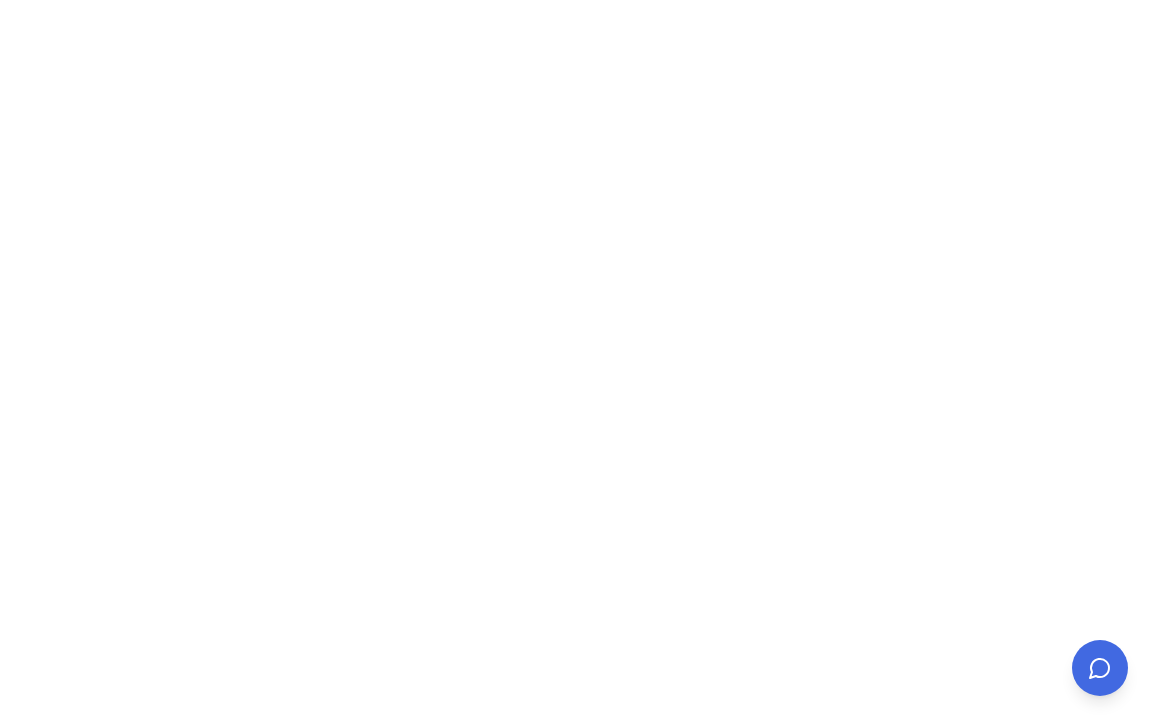
Test: E2E: Chatbot Component › closes chat window when X is clicked
Click the button named "Open chat": (1100, 668) left=1072, top=640, right=1128, bottom=696
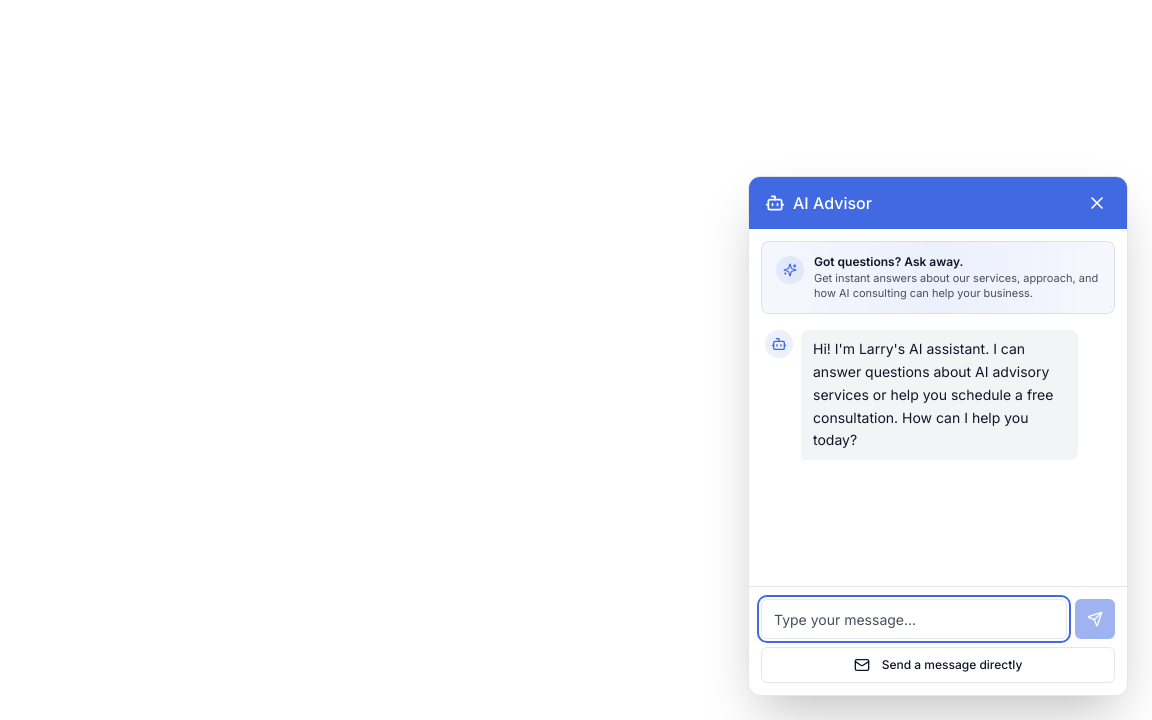
Now the dialog is shown, box left=748, top=176, right=1128, bottom=696
Click the button named "Close chat": (1097, 203) left=1083, top=189, right=1111, bottom=217
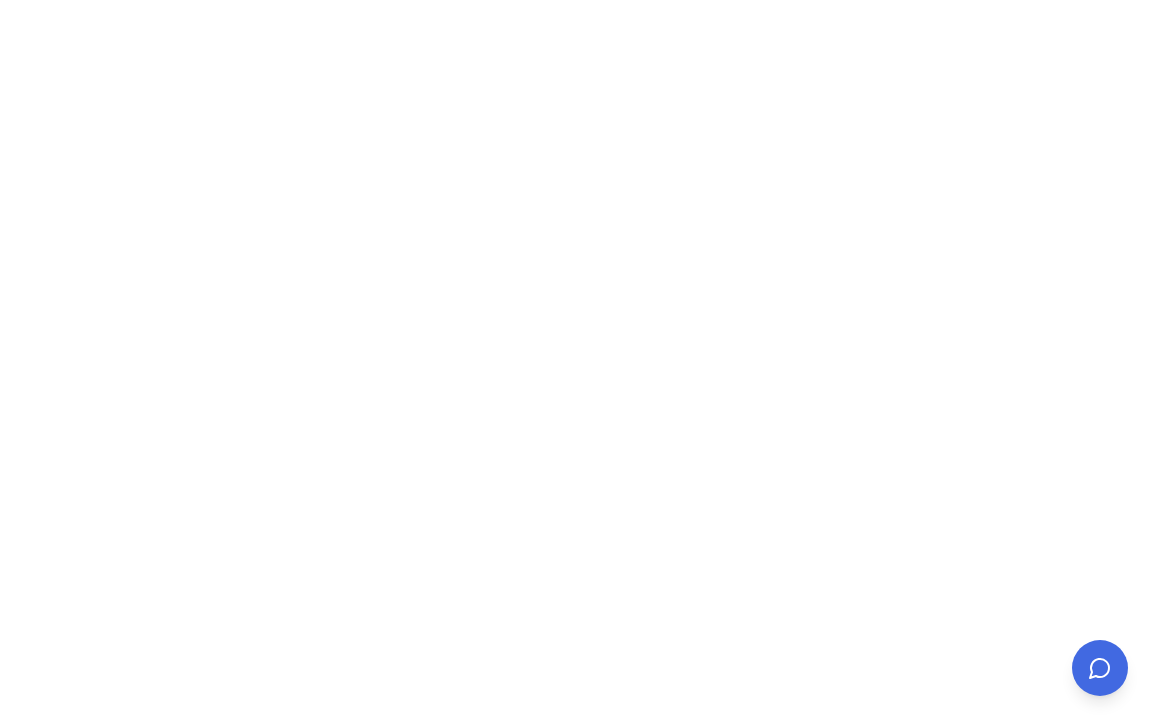
Now the dialog is gone
